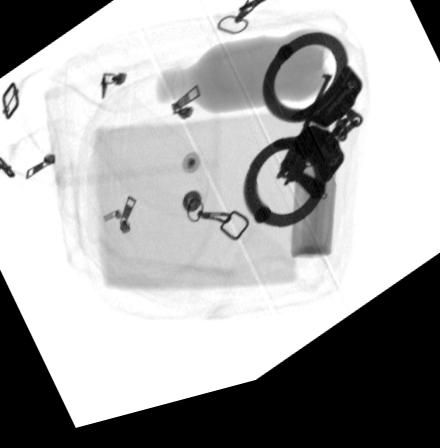Gun: (275, 87, 335, 219)
HandCuffs: (239, 43, 365, 245)
